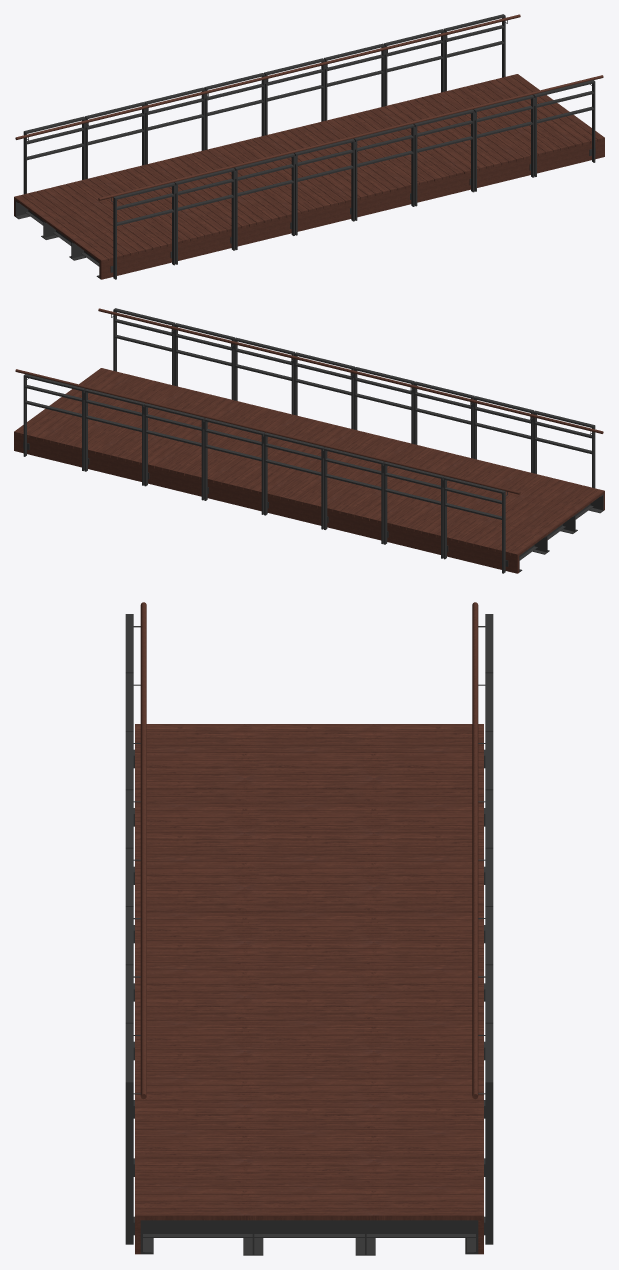
The model's file is Beam_BoxRail.glb.
3 renders of one model, top to bottom at view 1: azimuth 30°, elevation 25°; view 2: azimuth 150°, elevation 25°; view 3: azimuth 270°, elevation 25°, orthographic. The views are drawn at different scales.
Size of the model in its own units: 10 by 1.54 by 3.16.
Materials: 2 (1 with a texture image).
